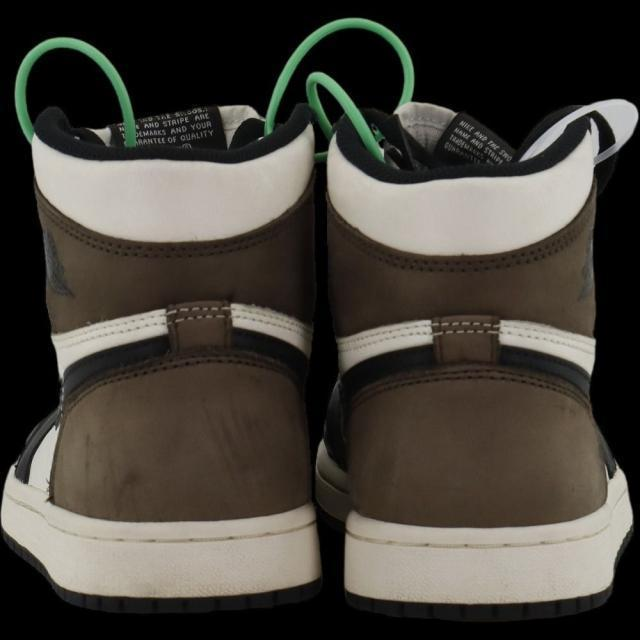nike original jordan 1: (323, 88, 640, 629), (0, 107, 323, 616)
